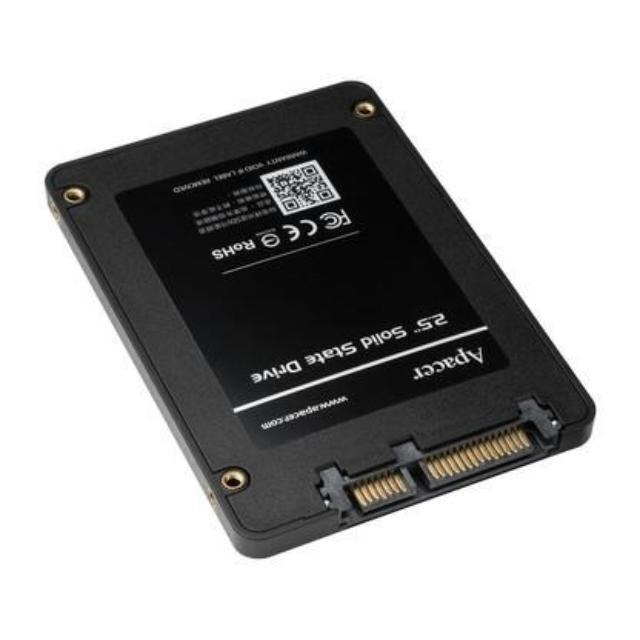DISK: (39, 71, 602, 564)
